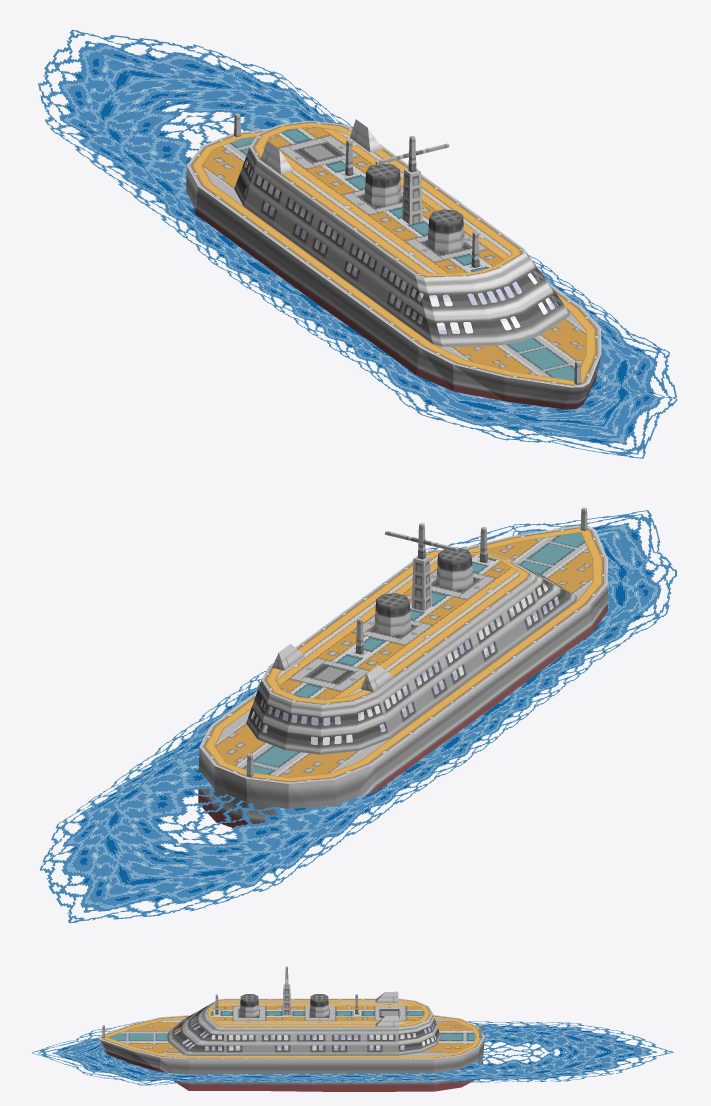
The picture shows the model from 3 angles, top to bottom: view 1: azimuth 30°, elevation 25°; view 2: azimuth 150°, elevation 25°; view 3: azimuth 270°, elevation 25°; orthographic projection. The views are drawn at different scales.
Visible parts, largest first — view 1: polygon0.010, polygon6.010, polygon4.010, polygon5.010, polygon1.010, polygon3.010, polygon2.010; view 2: polygon0.010, polygon4.010, polygon6.010, polygon5.010, polygon3.010, polygon1.010, polygon2.010; view 3: polygon0.010, polygon4.010, polygon6.010, polygon5.010, polygon3.010, polygon1.010, polygon2.010.
Part boxes in pixels (x1,y1,x2,y2): polygon0.010: (38,29,677,458); polygon6.010: (234,120,570,346); polygon4.010: (186,128,601,409); polygon5.010: (268,127,511,273); polygon1.010: (234,113,581,384); polygon3.010: (202,137,585,380); polygon2.010: (244,164,558,334); polygon0.010: (39,510,676,923); polygon4.010: (198,525,607,836); polygon6.010: (246,549,577,754); polygon5.010: (276,555,519,699); polygon3.010: (215,532,592,777); polygon1.010: (246,507,587,777); polygon2.010: (252,584,559,745); polygon0.010: (32,1021,673,1085); polygon4.010: (98,1015,484,1091); polygon6.010: (167,998,440,1055); polygon5.010: (210,1002,424,1024); polygon3.010: (108,1019,475,1055); polygon1.010: (102,966,481,1037); polygon2.010: (174,1016,436,1050).
Size of the model in its own units: 3.93 by 2.49 by 15.09.
Materials: 4 (4 with a texture image).
